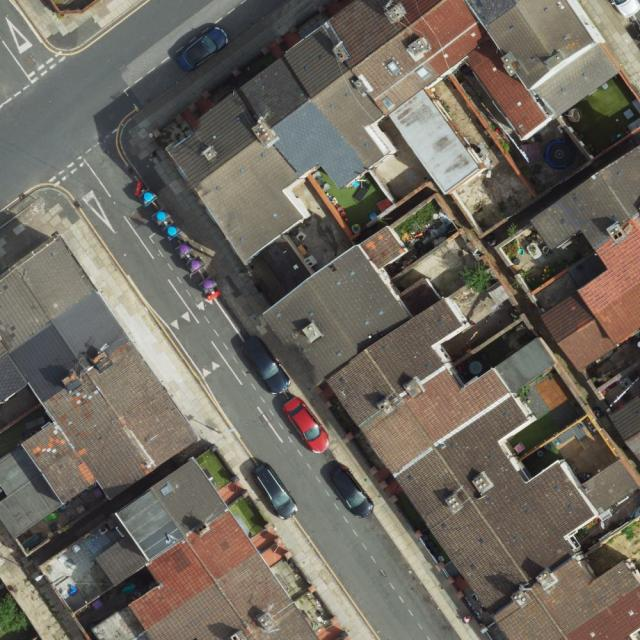roof: (264, 225, 640, 640), (169, 0, 618, 262), (0, 237, 201, 540), (94, 457, 320, 640), (528, 147, 640, 372), (607, 397, 640, 467)
skylight: (414, 64, 433, 83), (384, 57, 404, 75), (159, 482, 175, 496), (380, 95, 395, 109)
